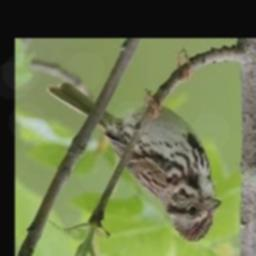Sparrow: (48, 50, 222, 241)
